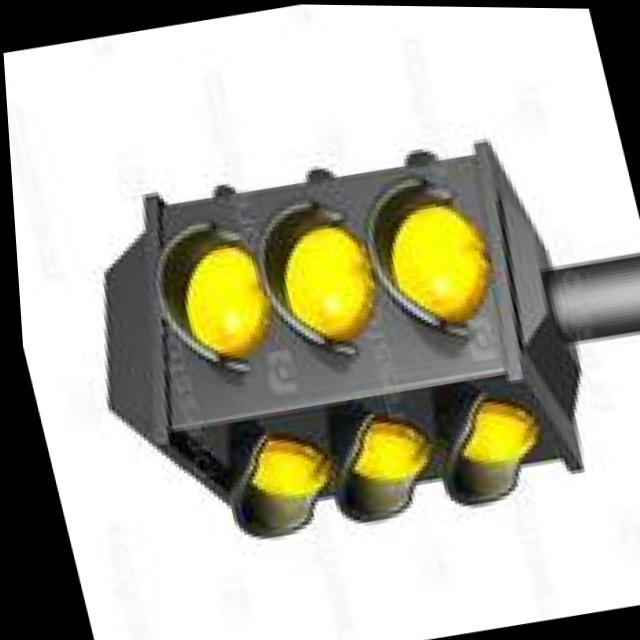yellow_light: (230, 171, 389, 386), (111, 194, 269, 398), (352, 142, 510, 341), (190, 401, 349, 573), (305, 394, 451, 551), (424, 387, 543, 535)
